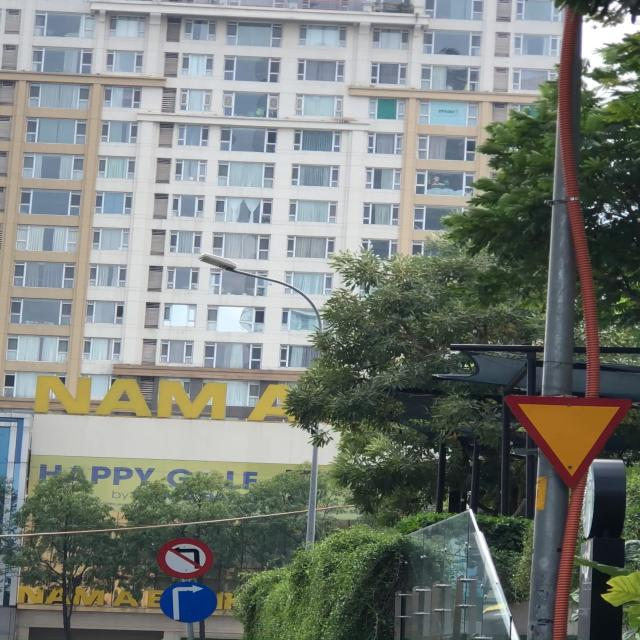Bien bao cam re trai: (155, 536, 217, 580)
Bien bao giao nhau voi duong uu tien: (496, 389, 636, 486)
Bien bao huong di phai theo: (159, 580, 223, 626)
